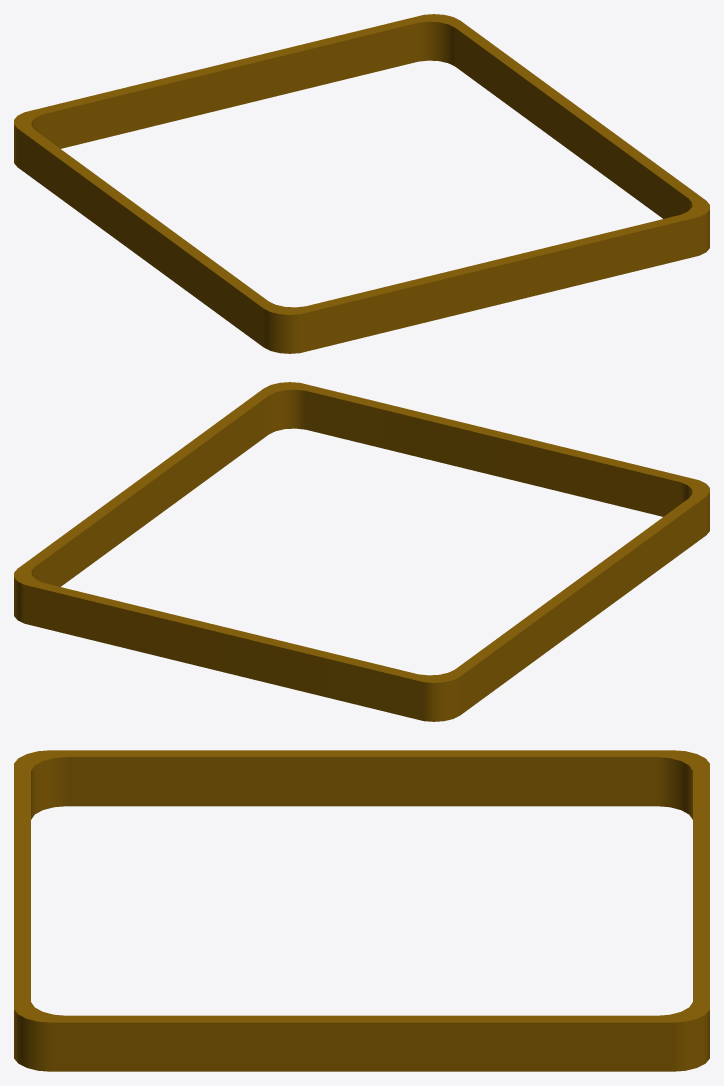
The model's file is ChocoHoop.fbx.
The picture shows the model from 3 angles, top to bottom: view 1: azimuth 30°, elevation 25°; view 2: azimuth 150°, elevation 25°; view 3: azimuth 270°, elevation 25°; orthographic projection. The views are drawn at different scales.
Parts seen in each view (by area): view 1: polySurface10; view 2: polySurface10; view 3: polySurface10.
Part boxes in pixels (left/top/right/bottom): polySurface10: left=14, top=14, right=709, bottom=353; polySurface10: left=14, top=382, right=709, bottom=721; polySurface10: left=14, top=750, right=709, bottom=1071.
Size of the model in its own units: 1.55 by 0.13 by 1.67.
